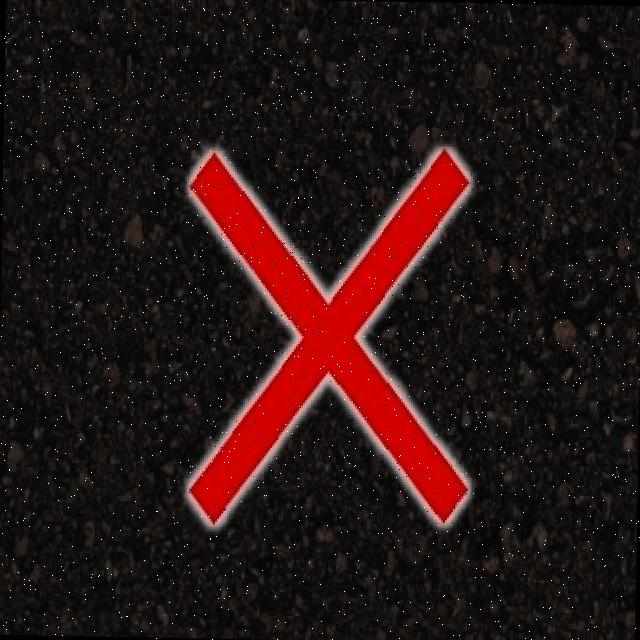x_marker: (183, 146, 472, 526)
